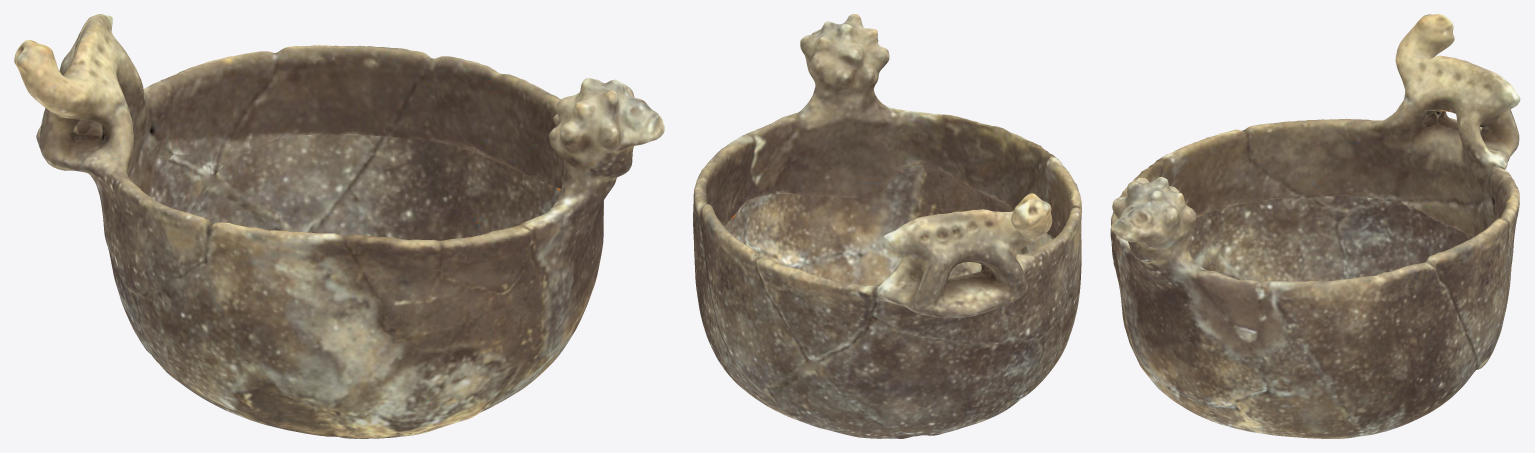
File: Ark_HM_358_HI.glb
The picture shows the model from 3 angles, left to right: view 1: azimuth 30°, elevation 25°; view 2: azimuth 150°, elevation 25°; view 3: azimuth 270°, elevation 25°; orthographic projection. The views are drawn at different scales.
Bounding box in the file's own units: 0.4995 × 0.3649 × 0.4557.
1 material, 1 textured.
